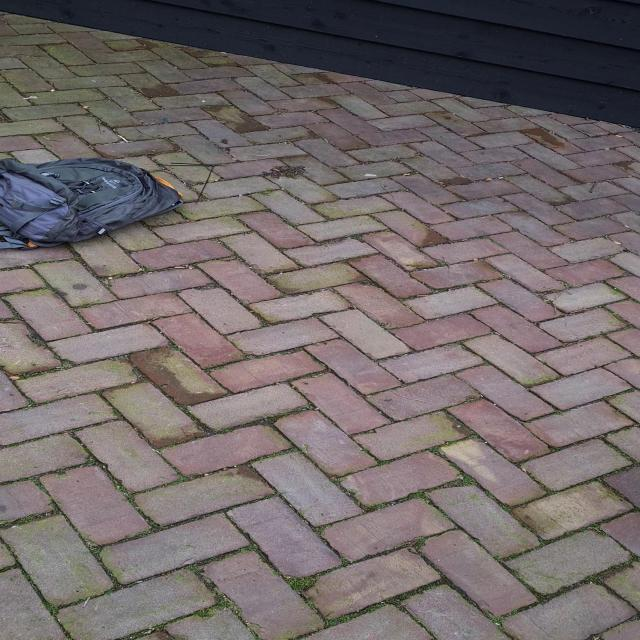backpack: (0, 154, 186, 250)
